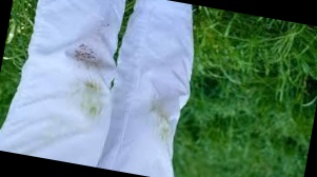earth: (147, 100, 173, 140), (76, 81, 105, 115), (72, 42, 99, 66)
